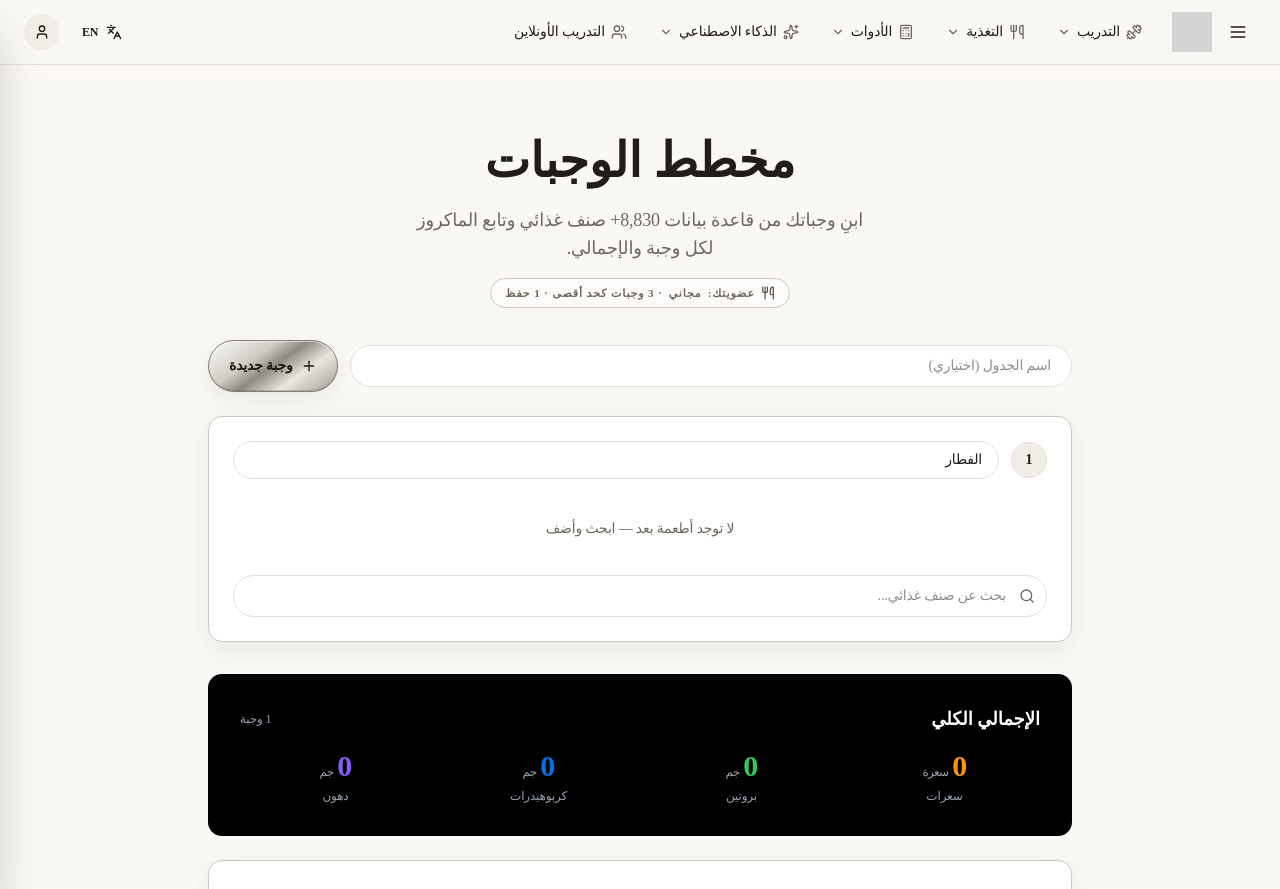
Test case: W1-4c behavior — the real page through the B-03 race › the AR instance of the SAME page sends lang=ar and renders the localized labels
The image size is (1280, 889).
Type "صدور" into the field with placeholder "بحث عن صنف غذائي...".
click(640, 596); type("صدور")  # box top-left (233, 575), bottom-right (1047, 617)
Wait 300 ms
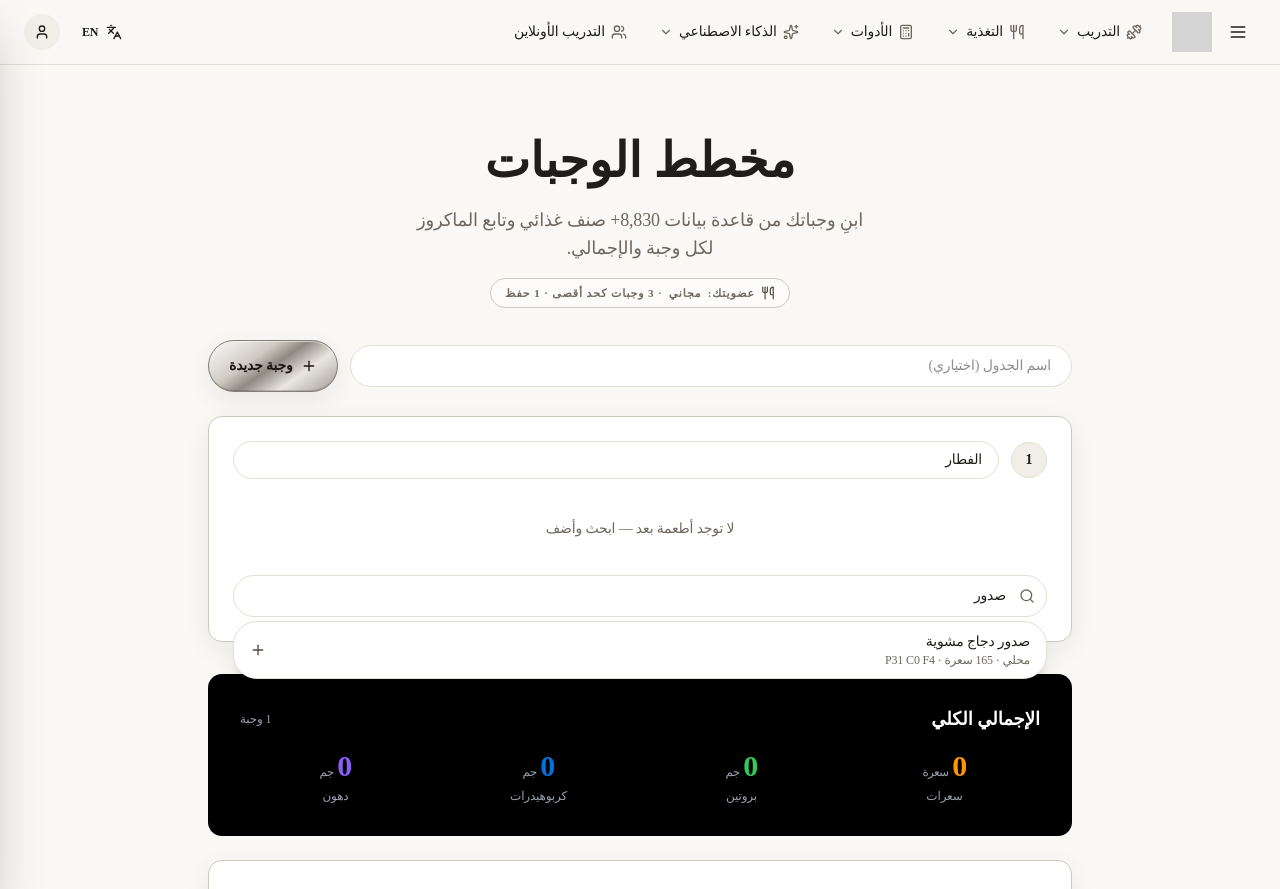
Now the element with class "z-20" shows "صدور دجاج مشوية", box top-left (234, 622), bottom-right (1046, 678)
Now the element with class "z-20" shows "محلي", box top-left (234, 622), bottom-right (1046, 678)
